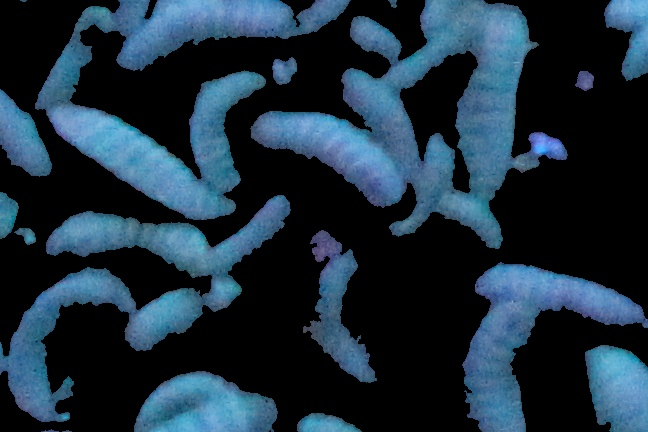larvae: (49, 102, 238, 218), (7, 268, 132, 421), (251, 109, 403, 207), (456, 6, 531, 193), (117, 1, 294, 72), (478, 263, 648, 327), (42, 211, 211, 270), (306, 252, 377, 387), (182, 71, 264, 187), (462, 306, 536, 431), (125, 273, 244, 348), (338, 64, 421, 165), (35, 9, 117, 108), (387, 7, 482, 89), (387, 131, 460, 236), (204, 194, 289, 281), (583, 341, 648, 432), (1, 87, 60, 181), (135, 370, 230, 426), (152, 393, 274, 432), (442, 193, 504, 250), (345, 14, 402, 64)
